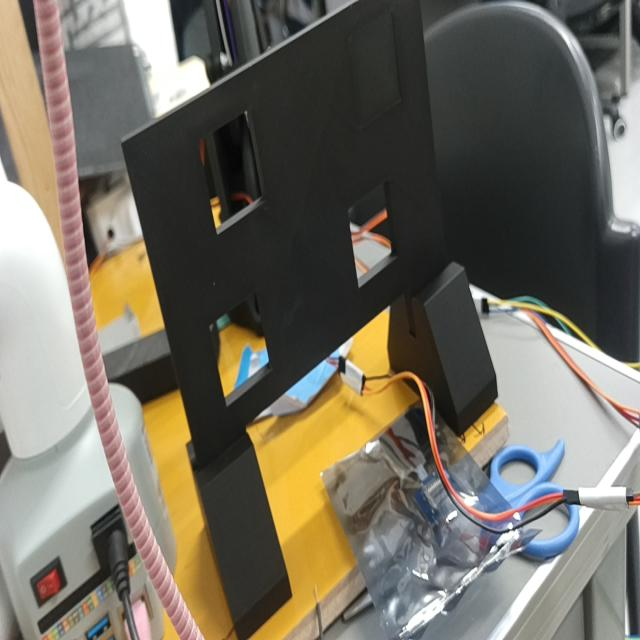Obstacle: (197, 110, 266, 231), (208, 291, 274, 407), (348, 177, 396, 286)
Wall: (123, 0, 447, 457)
